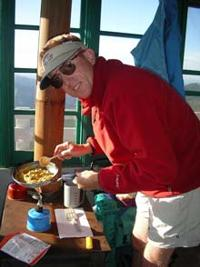person: (39, 31, 200, 267)
